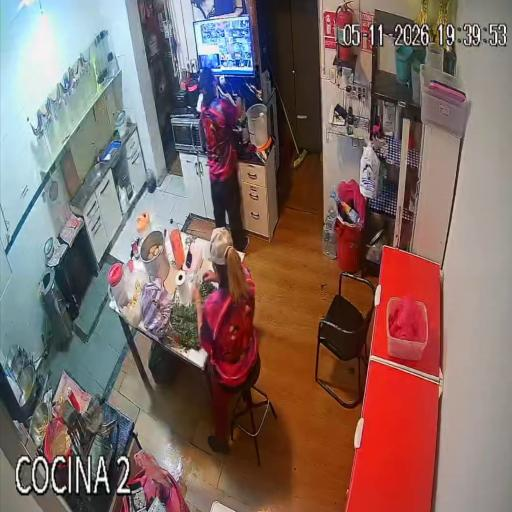Balde: (247, 103, 270, 150)
Envase Ketchup: (67, 388, 80, 411)
Envase Llajua: (58, 396, 65, 406)
Jarra1: (108, 263, 124, 293)
Jarra2: (136, 211, 152, 238)
Microondas: (171, 115, 205, 153)
Persona1: (200, 69, 245, 250)
Persona2: (196, 229, 258, 452)
Taper: (117, 272, 147, 327)
Taper4: (386, 297, 429, 361)
olla1: (140, 230, 169, 280)
